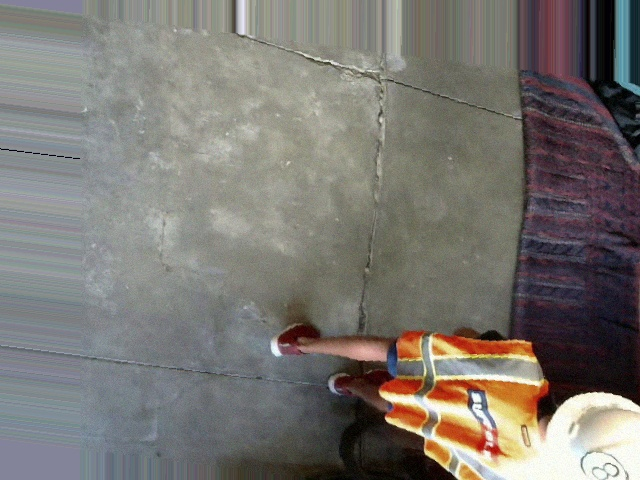eight: (579, 447, 630, 479)
